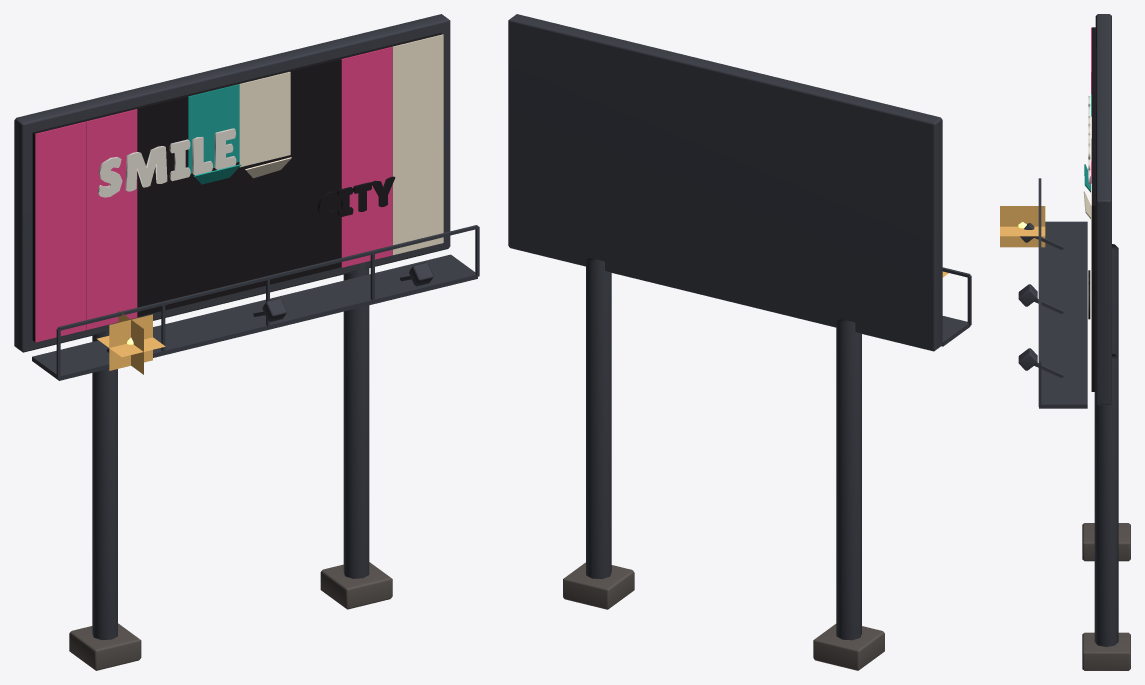
The model's file is city_billboard_torn.glb.
3 views of the same model, side by side, from view 1: azimuth 30°, elevation 25°; view 2: azimuth 150°, elevation 25°; view 3: azimuth 270°, elevation 25° (orthographic). The views are drawn at different scales.
Parts seen in each view (by area): view 1: Billboard; view 2: Billboard; view 3: Billboard.
Part boxes in pixels (left/top/right/bottom): Billboard: left=14, top=14, right=479, bottom=670; Billboard: left=508, top=14, right=971, bottom=670; Billboard: left=1000, top=14, right=1130, bottom=670.
Size of the model in its own units: 8.2 by 10.2 by 2.42.
